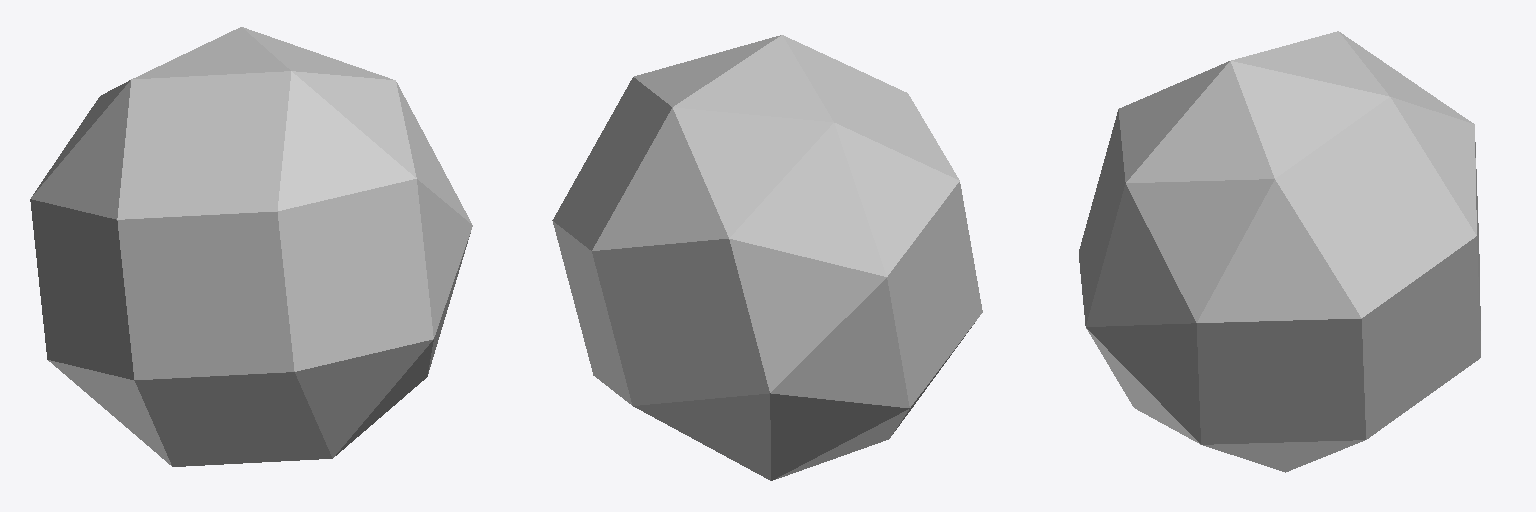
Rendered from GyroElongatedSquareBiCupola.obj.
3 renders of one model, left to right at view 1: azimuth 30°, elevation 25°; view 2: azimuth 150°, elevation 25°; view 3: azimuth 270°, elevation 25°, orthographic.
Visible parts, largest first — view 1: GyroElongatedSquareBiCupola; view 2: GyroElongatedSquareBiCupola; view 3: GyroElongatedSquareBiCupola.
Part boxes in pixels (x1,y1,x2,y2): GyroElongatedSquareBiCupola: (30, 27, 472, 466); GyroElongatedSquareBiCupola: (552, 35, 982, 480); GyroElongatedSquareBiCupola: (1079, 31, 1480, 472).
Bounding box in the file's own units: 1.84 × 2.01 × 1.83.